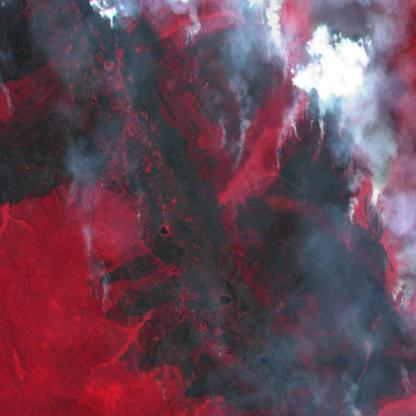fire: (183, 0, 416, 416)
